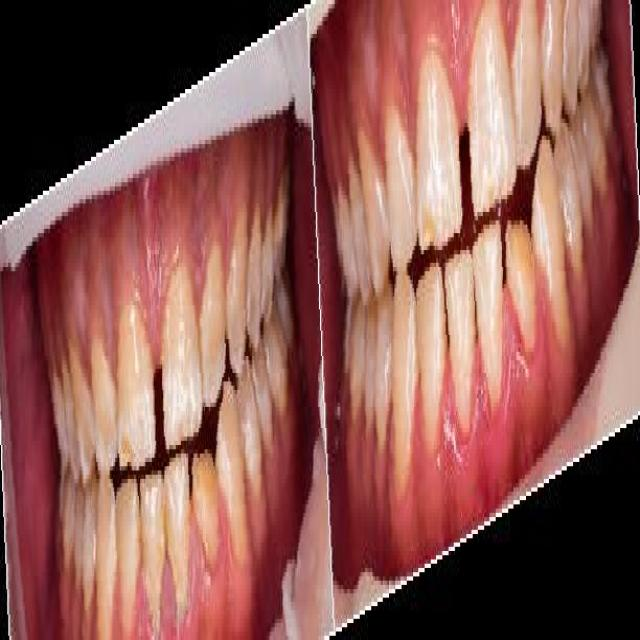caries: (192, 442, 216, 518), (508, 210, 532, 276)
